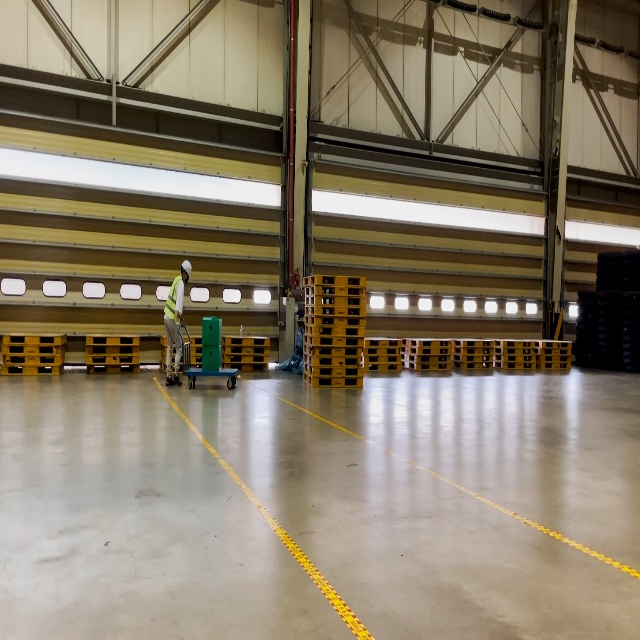Box: (202, 317, 222, 346), (202, 344, 222, 371)
Worker: (163, 260, 192, 387)
